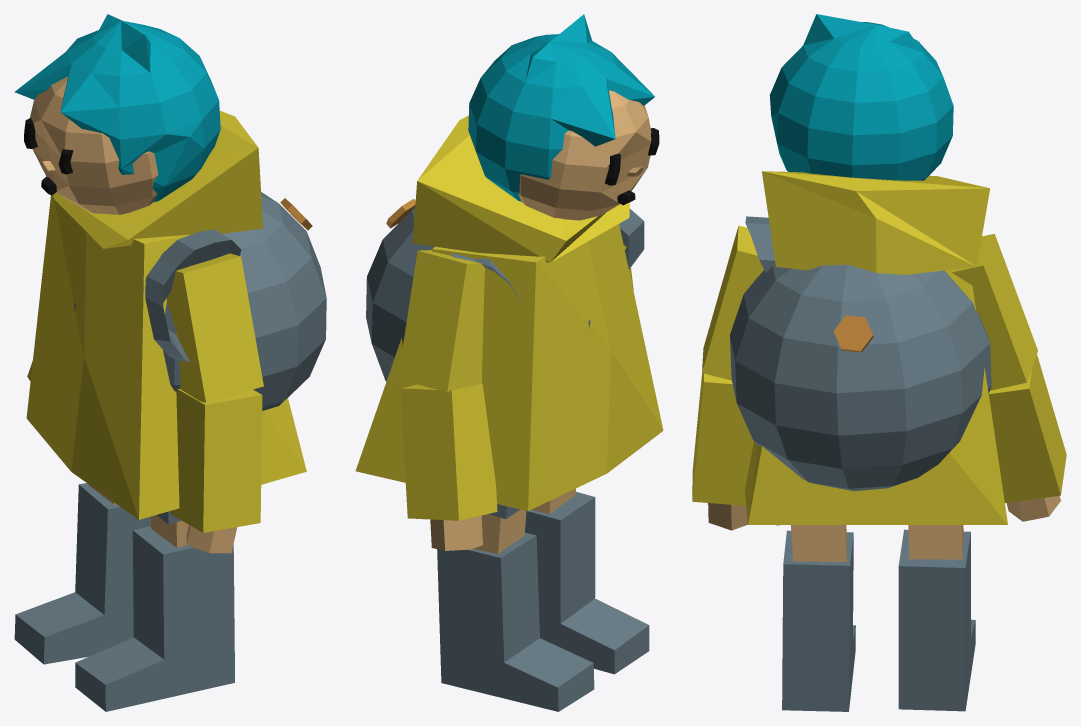
The picture shows the model from 3 angles, left to right: view 1: azimuth 30°, elevation 25°; view 2: azimuth 150°, elevation 25°; view 3: azimuth 270°, elevation 25°; orthographic projection. The views are drawn at different scales.
Visible parts, largest first — view 1: node_MeshObject1607959552-PolyPaper12; view 2: node_MeshObject1607959552-PolyPaper12; view 3: node_MeshObject1607959552-PolyPaper12.
Boxes of the visible parts, bbox=[...] form: node_MeshObject1607959552-PolyPaper12: bbox=[14, 14, 326, 711]; node_MeshObject1607959552-PolyPaper12: bbox=[355, 14, 663, 711]; node_MeshObject1607959552-PolyPaper12: bbox=[692, 14, 1066, 711].
Bounding box in the file's own units: 0.2331 × 0.5451 × 0.2796.
